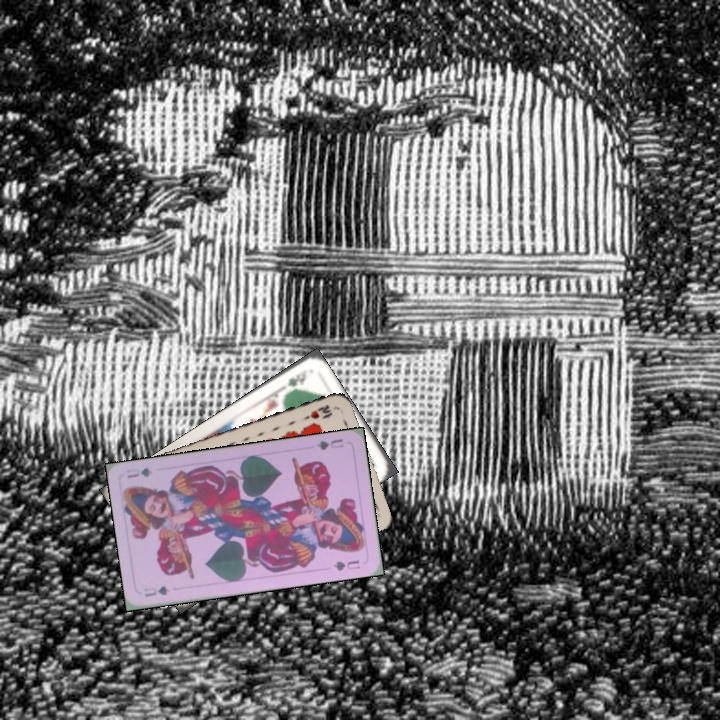GK: (277, 365, 310, 393)
GU: (313, 435, 346, 453), (140, 582, 172, 599)
H10: (300, 400, 334, 423)
